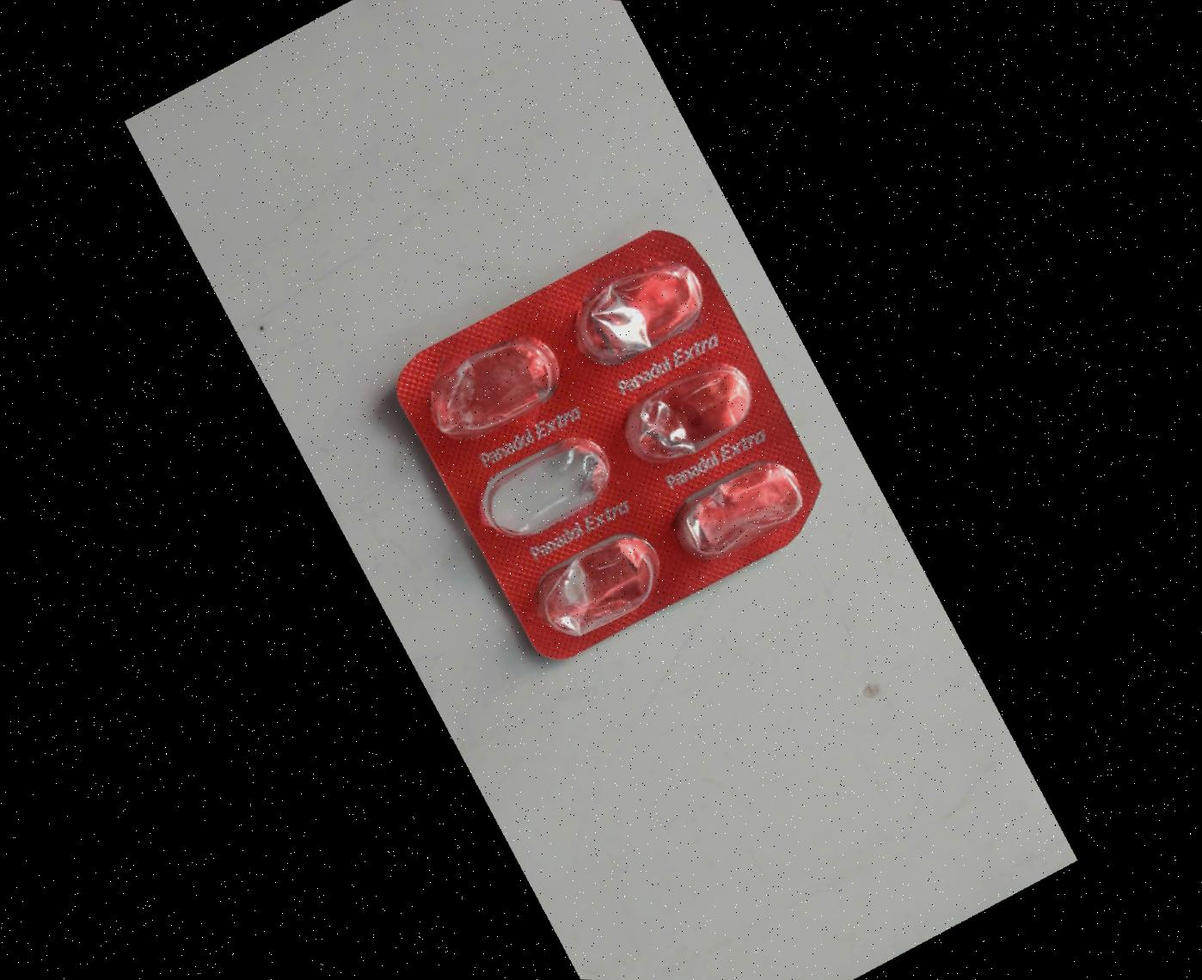Empty: (409, 316, 576, 463), (551, 241, 718, 388), (652, 435, 819, 582), (516, 513, 683, 660), (461, 415, 629, 561), (604, 340, 771, 486)
